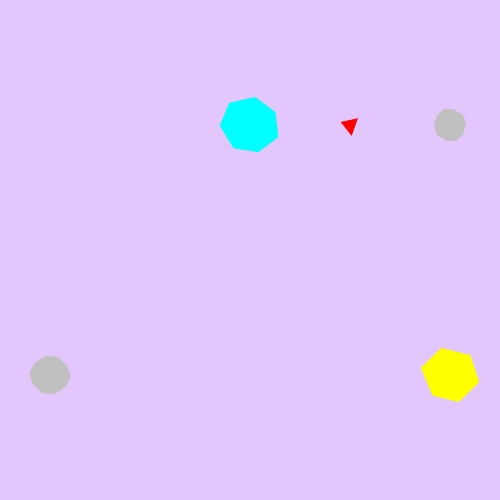decagon: (26, 353, 75, 398), (429, 106, 471, 145)
heptagon: (218, 94, 283, 156)
hexagon: (417, 348, 483, 403)
triangle: (338, 112, 363, 138)
